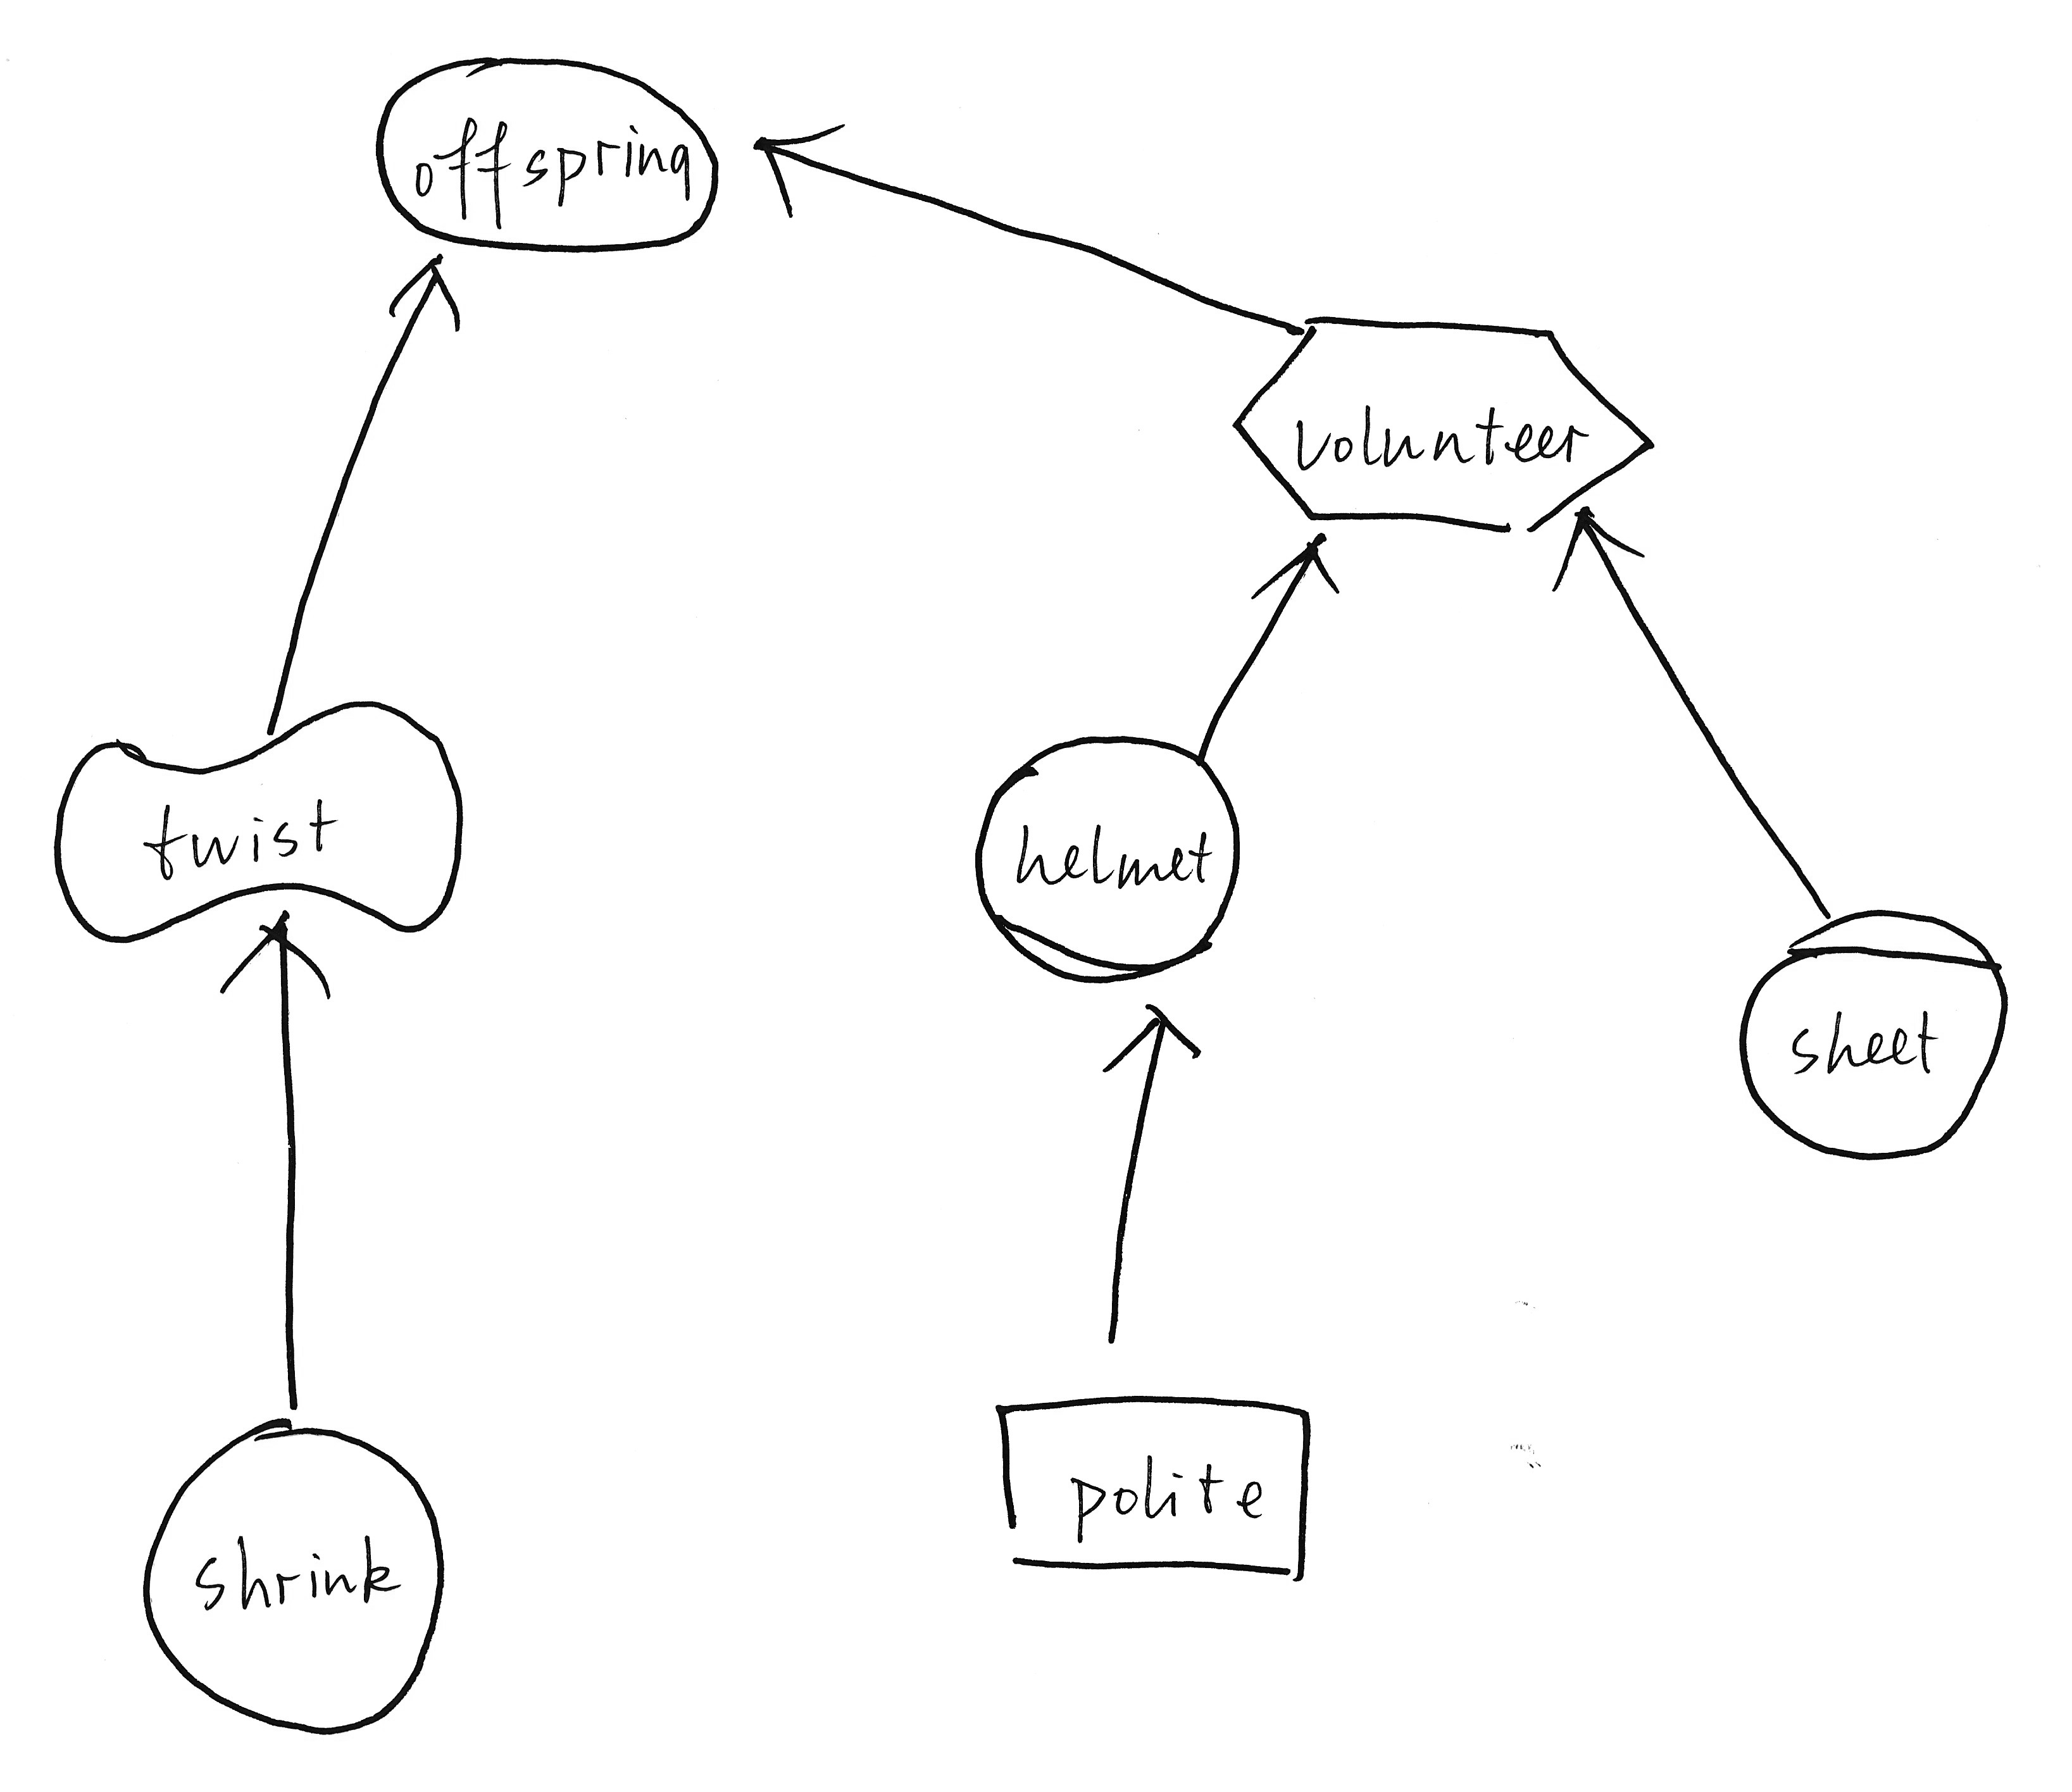actor: (125, 1401, 462, 1751)
agent: (1720, 892, 2021, 1179)
arrow: (744, 97, 862, 234), (213, 907, 344, 1020), (1538, 499, 1653, 610), (1087, 996, 1214, 1087), (1235, 525, 1358, 617), (375, 245, 470, 342)
goal: (363, 35, 736, 275)
quality: (39, 680, 483, 959)
resource: (974, 1374, 1328, 1602)
role: (960, 722, 1258, 1001)
task: (1217, 292, 1669, 548)
